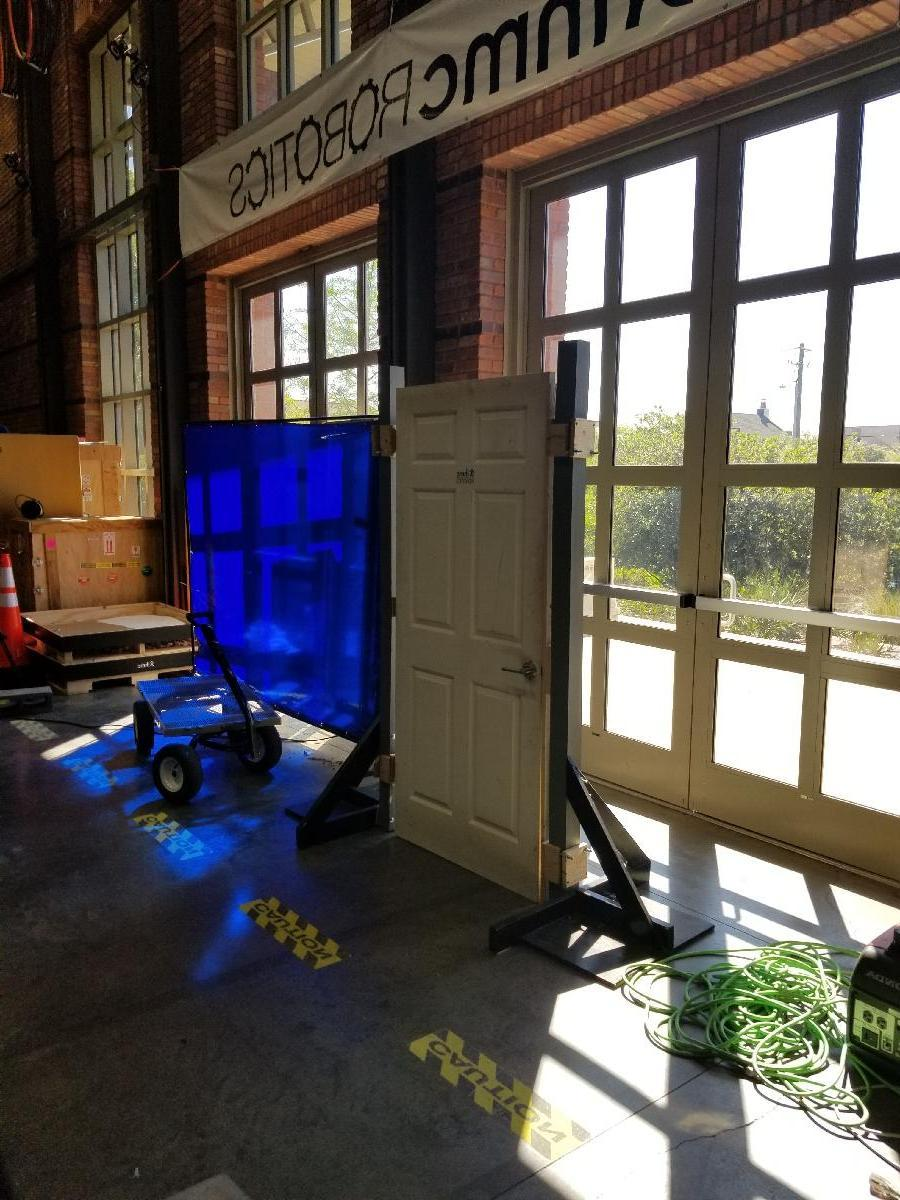door: (384, 368, 552, 879)
handle: (496, 656, 538, 686)
